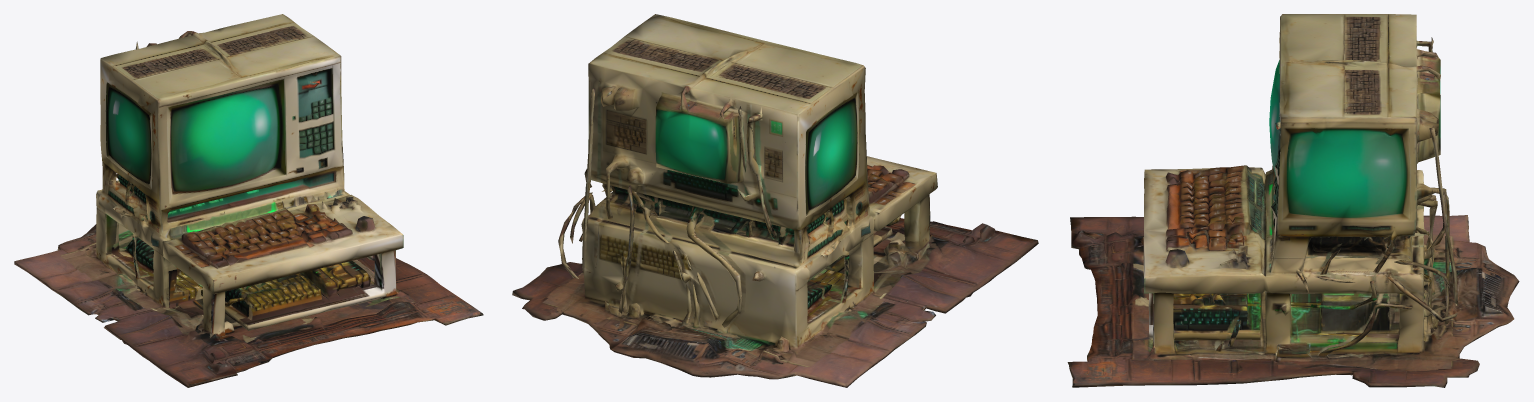
File: Abandoned_vintage_com_1203160142_texture.glb
The picture shows the model from 3 angles, left to right: view 1: azimuth 30°, elevation 25°; view 2: azimuth 150°, elevation 25°; view 3: azimuth 270°, elevation 25°; orthographic projection. The views are drawn at different scales.
Bounding box in the file's own units: 1.83 × 1.23 × 2.03.
Materials: 1 (1 with a texture image).
